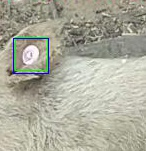text: (15, 37, 47, 70)
